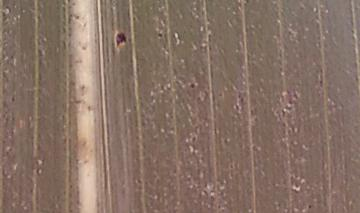tarspot: (111, 29, 130, 48), (305, 202, 317, 213), (8, 92, 18, 105), (154, 30, 165, 41), (187, 80, 199, 89), (241, 1, 254, 5)
